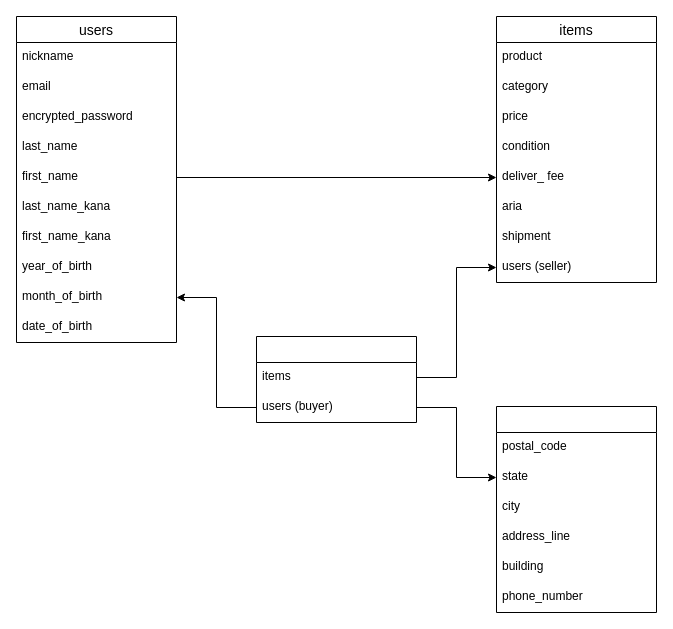
Some shapes in this 673 by 629 pixel diagram are drawn without their labels. Here are the shapes that lost their labels. From the top down, the box of each, then its label:
(256, 336, 416, 422): records
(496, 406, 656, 612): addresses
